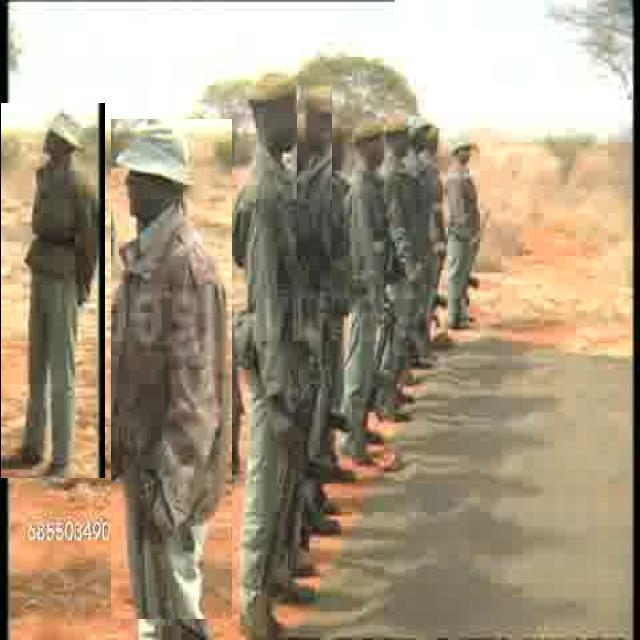poacher: (111, 119, 232, 619), (1, 103, 106, 478), (234, 73, 300, 601), (341, 116, 398, 466), (297, 76, 332, 388), (446, 121, 486, 336)
